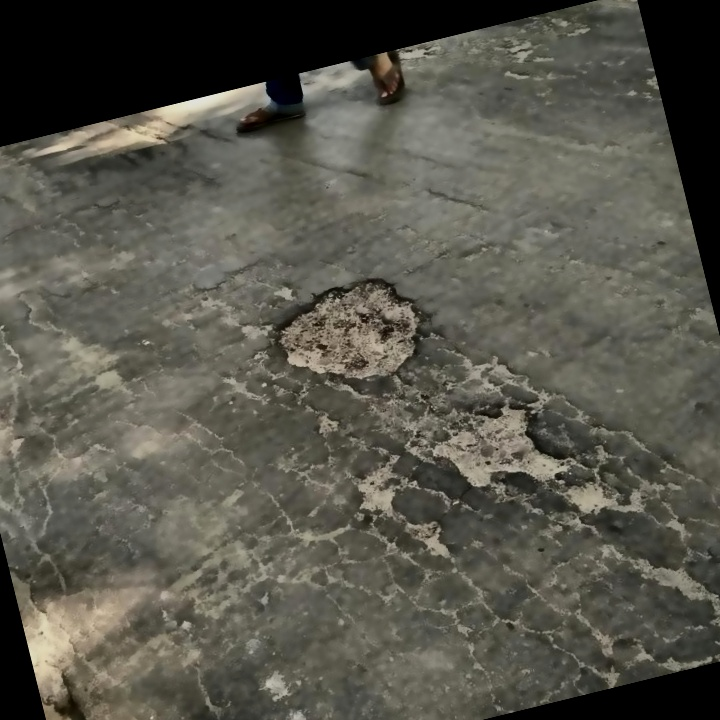pothole: (267, 262, 440, 400), (425, 388, 581, 503)
